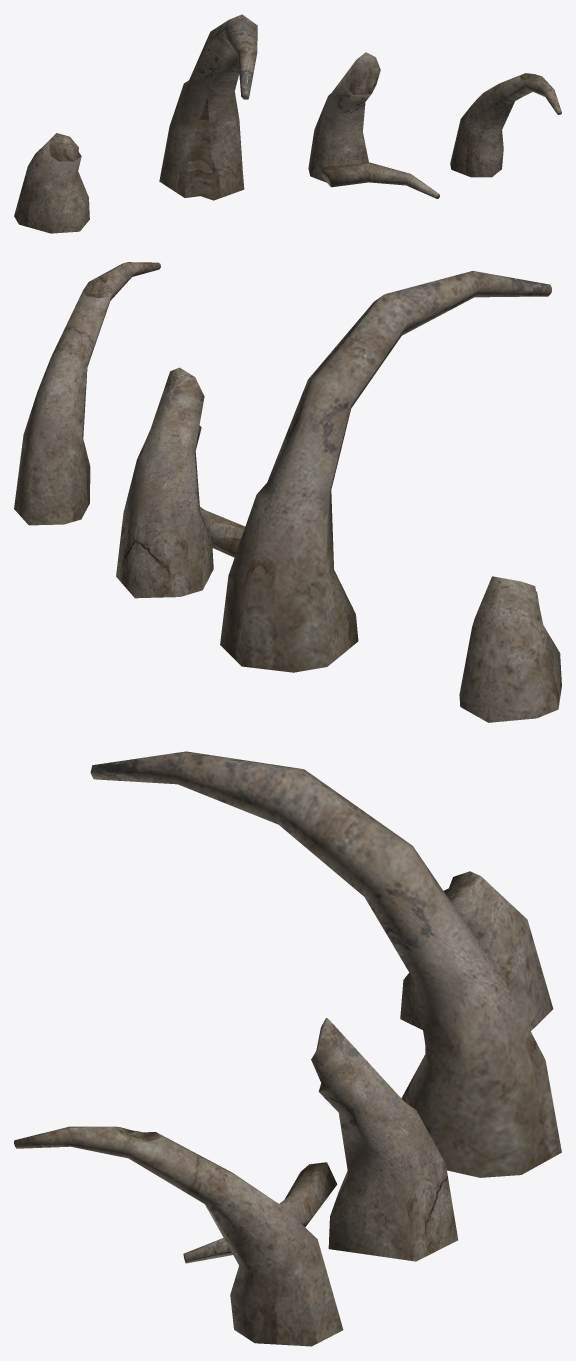
Rendered from Co_A_DinoBone05.FBX.
The picture shows the model from 3 angles, top to bottom: view 1: azimuth 30°, elevation 25°; view 2: azimuth 150°, elevation 25°; view 3: azimuth 270°, elevation 25°; orthographic projection. The views are drawn at different scales.
Visible parts, largest first — view 1: Co_A_DinoBone05; view 2: Co_A_DinoBone05; view 3: Co_A_DinoBone05.
Part boxes in pixels (x1=…): Co_A_DinoBone05: x1=14, y1=14, x2=561, y2=233; Co_A_DinoBone05: x1=14, y1=262, x2=561, y2=722; Co_A_DinoBone05: x1=14, y1=751, x2=561, y2=1346.
Size of the model in its own units: 861 by 400 by 551.
